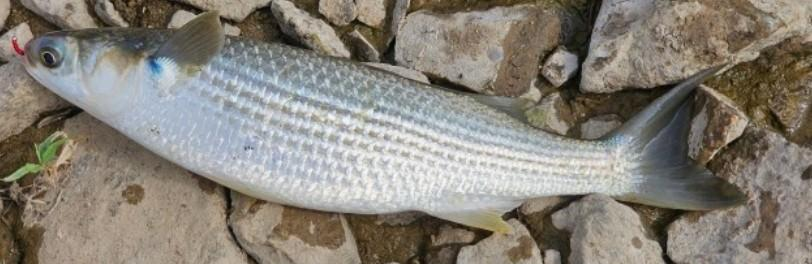fish: (23, 6, 745, 235)
